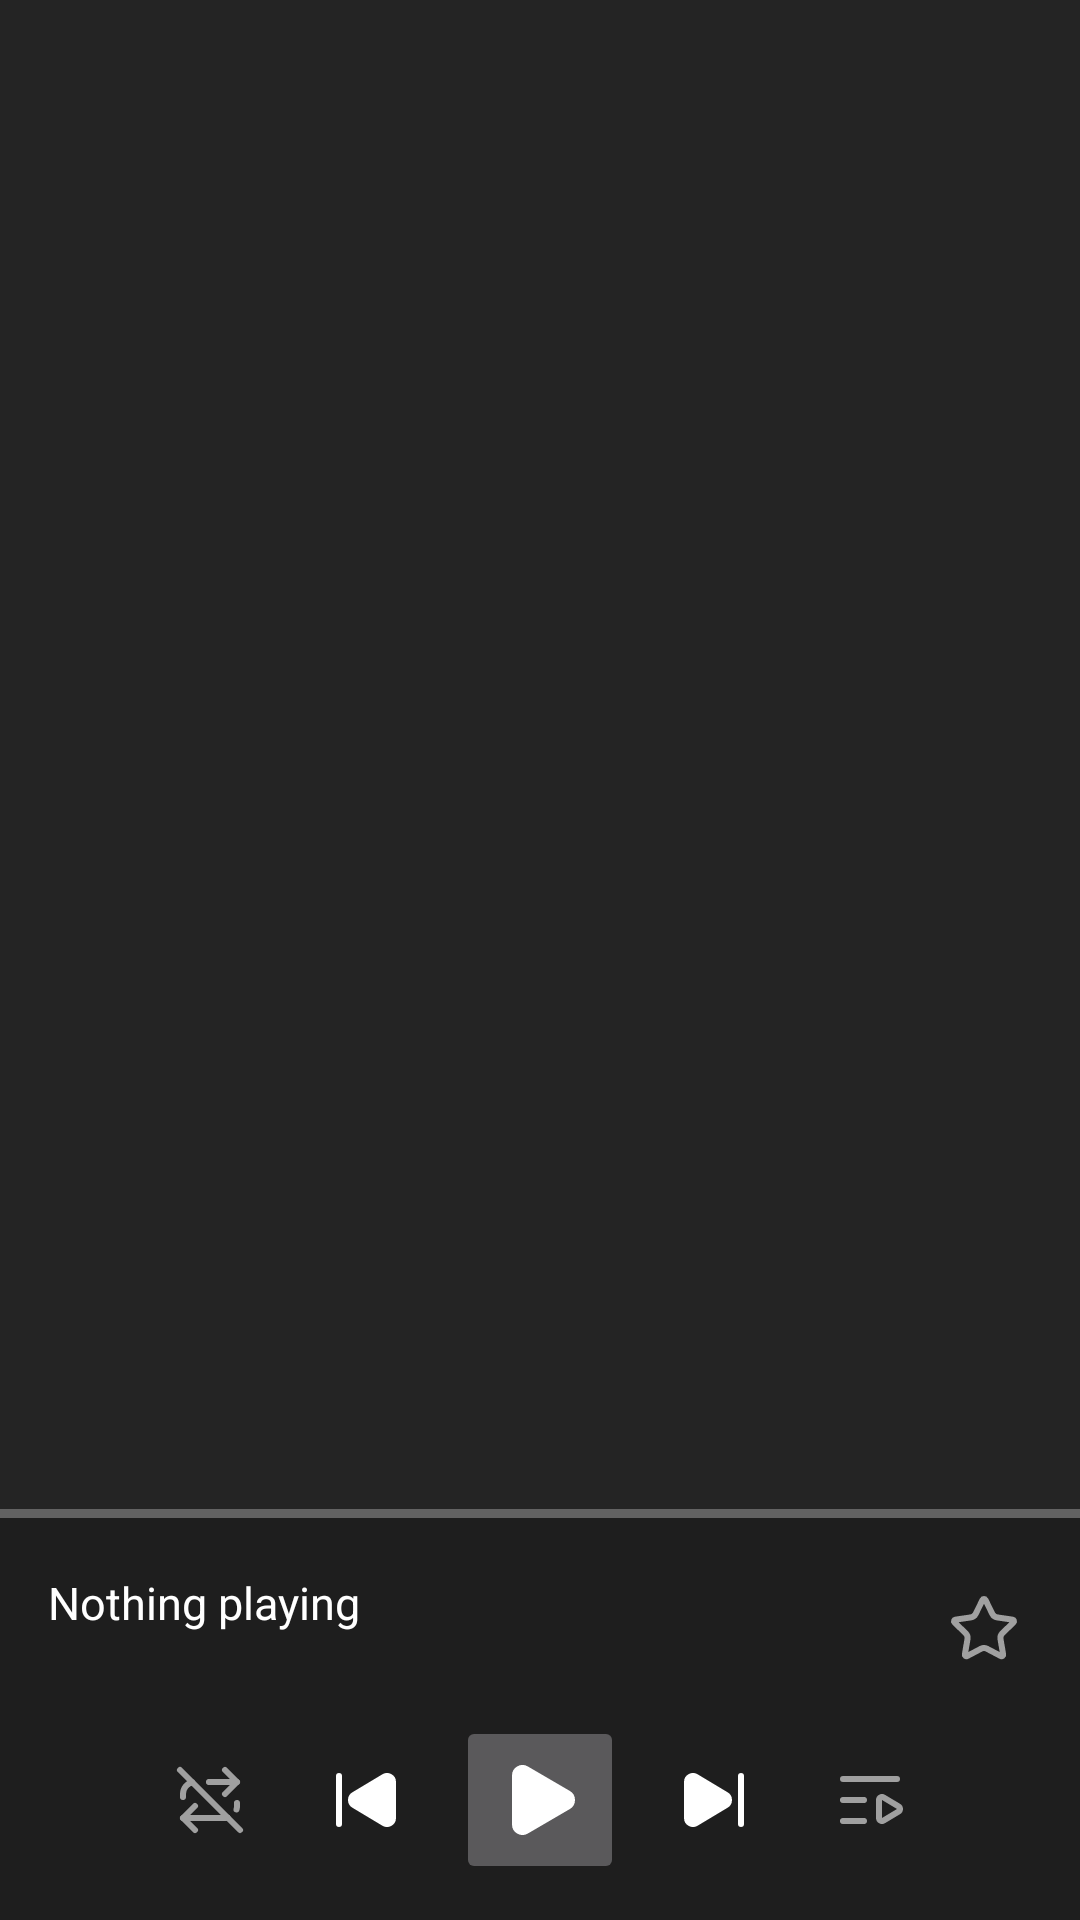

Locate icon controls on the screen. Image size 1080px×1920px, boxes as (x1, y1, x2, y2).
Favourite: (951, 1596, 1017, 1660)
Next: (684, 1773, 744, 1827)
Playback mode: (177, 1767, 243, 1833)
Previous: (336, 1773, 396, 1827)
Queue: (840, 1776, 903, 1824)
